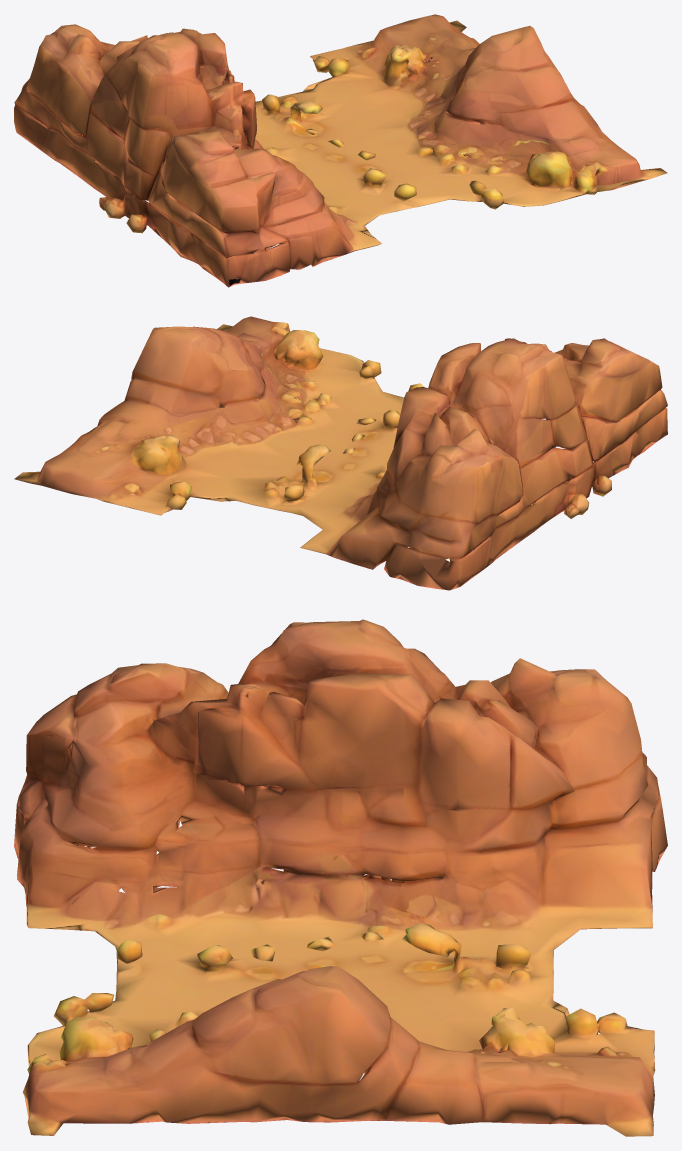
The model's file is canion2.glb.
3 renders of one model, top to bottom at view 1: azimuth 30°, elevation 25°; view 2: azimuth 150°, elevation 25°; view 3: azimuth 270°, elevation 25°, orthographic. The views are drawn at different scales.
Bounding box in the file's own units: 2 × 0.6682 × 1.65.
Materials: 1 (1 with a texture image).
